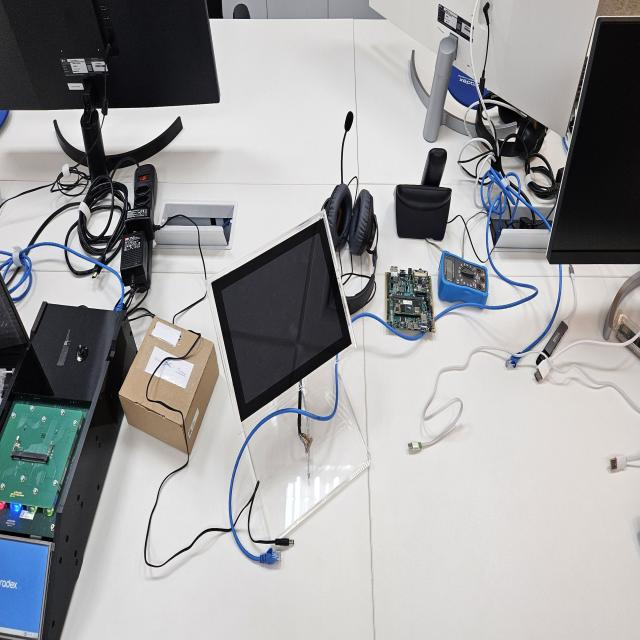som: (391, 292, 427, 322)
